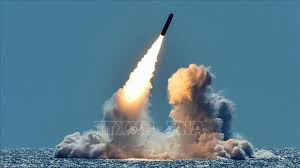ten_lua: (158, 9, 177, 38)
